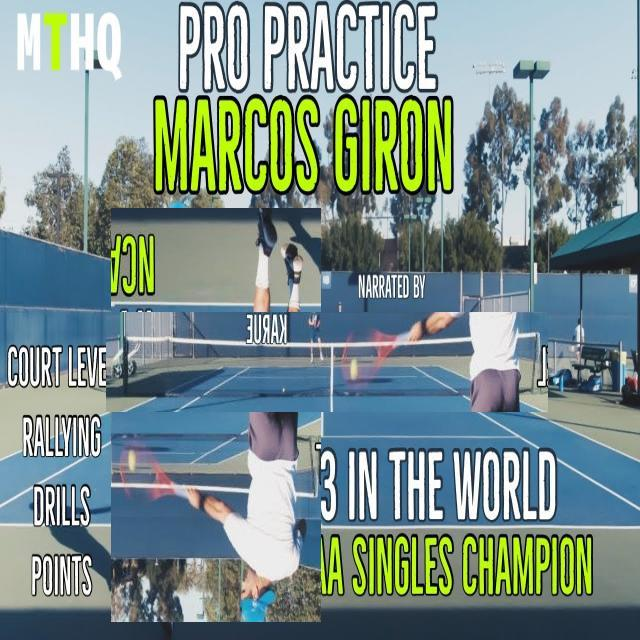net: (106, 312, 548, 412)
player: (111, 208, 321, 622)
